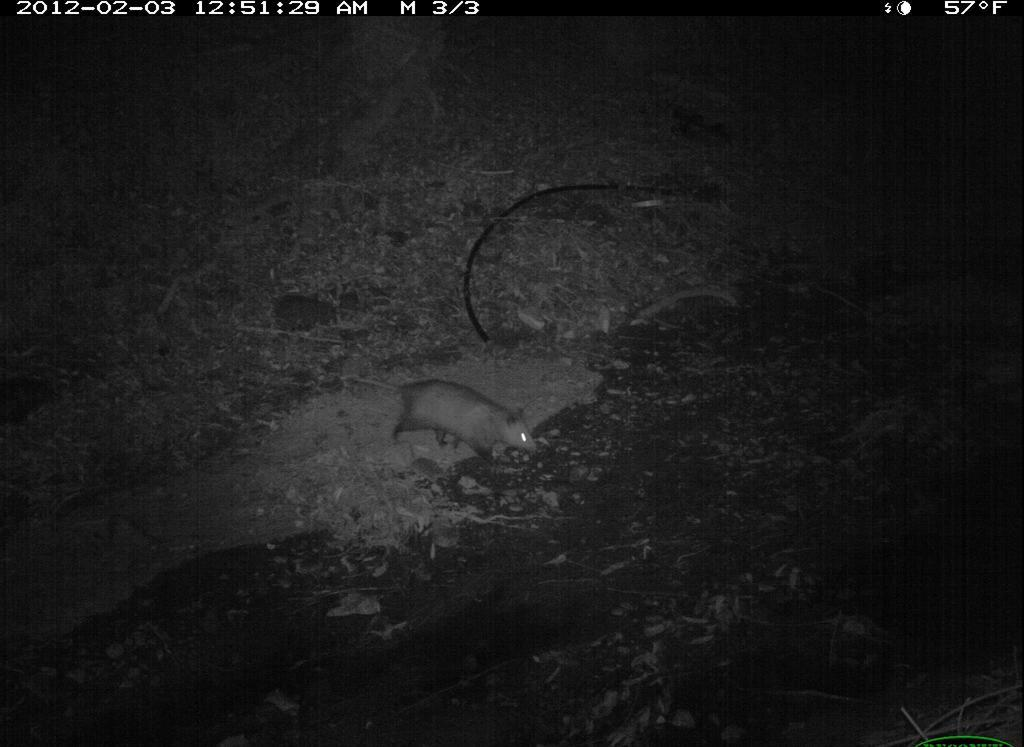opossum: (368, 373, 555, 469)
